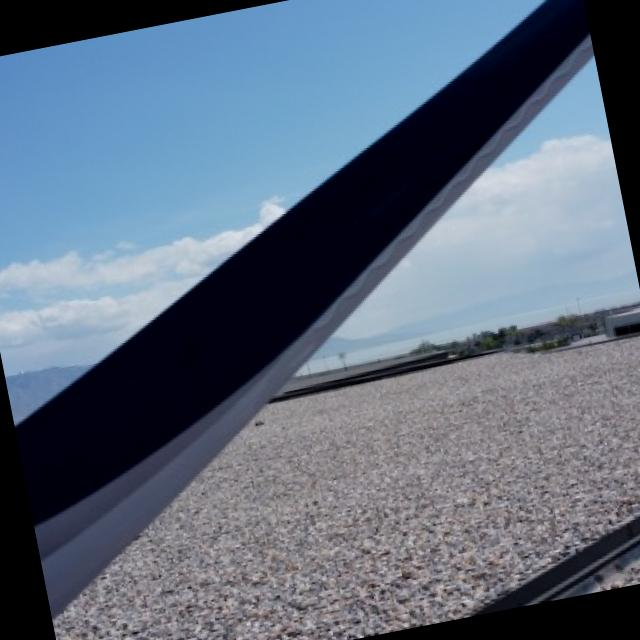healthy: (54, 336, 640, 640)
